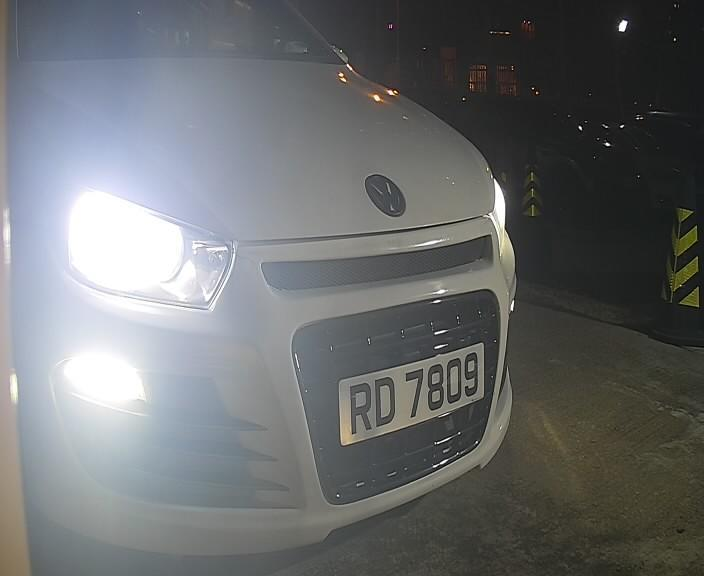License Plate: (334, 332, 485, 456)
